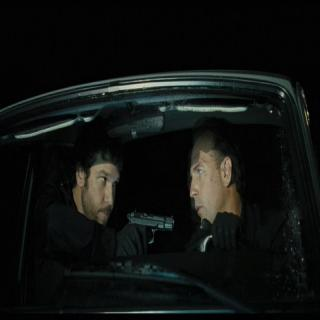gun: (124, 199, 176, 252)
